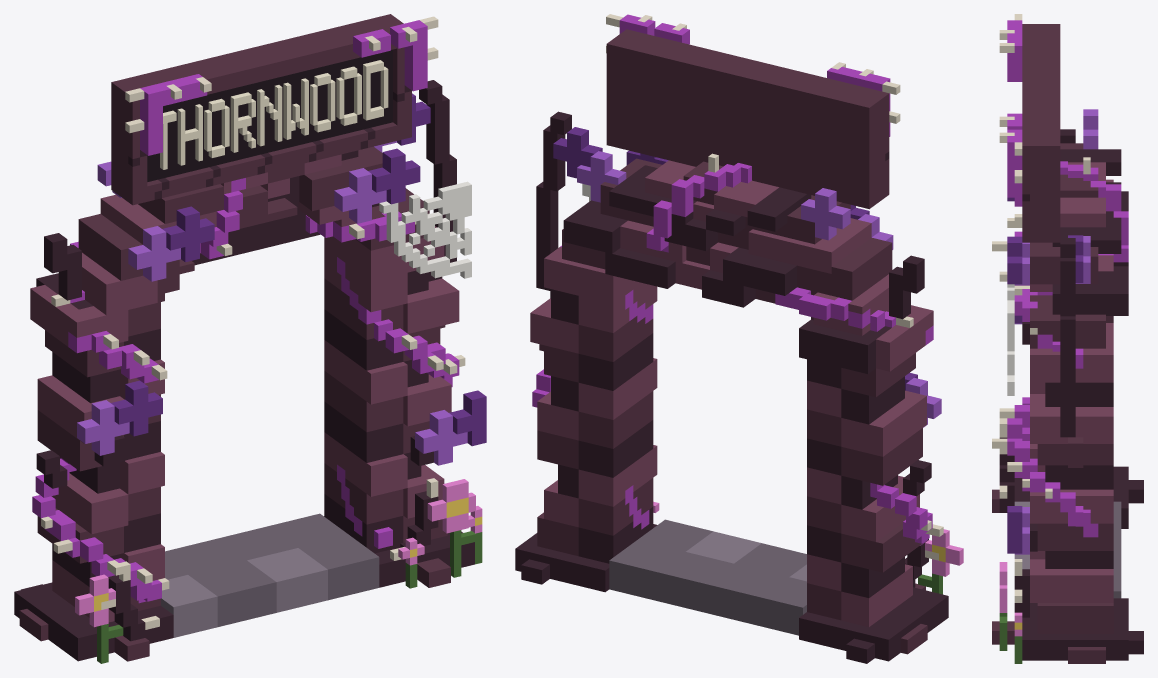
The model's file is Lobby_PortalArch_Thornwood.glb.
3 renders of one model, left to right at view 1: azimuth 30°, elevation 25°; view 2: azimuth 150°, elevation 25°; view 3: azimuth 270°, elevation 25°, orthographic. The views are drawn at different scales.
Visible parts, largest first — view 1: Wood, WoodLight, WoodDark, Vine, Stone, SignBoard, SignText, LeafDark, Leaf, Web, StoneLight, Thorn (+3 smaller); view 2: Wood, WoodDark, WoodLight, Stone, Vine, Leaf, LeafDark, StoneLight, Thorn, Flower; view 3: Wood, WoodDark, WoodLight, Vine, Thorn, LeafDark, Leaf, Web, Stone, Flower, Stem, StoneLight.
Boxes of the visible parts, bbox=[...] form: Wood: bbox=[19, 14, 450, 661]; WoodLight: bbox=[30, 154, 459, 622]; WoodDark: bbox=[14, 80, 474, 661]; Vine: bbox=[32, 20, 459, 603]; Stone: bbox=[165, 513, 379, 626]; SignBoard: bbox=[147, 49, 392, 181]; SignText: bbox=[160, 60, 388, 169]; LeafDark: bbox=[111, 93, 486, 446]; Leaf: bbox=[77, 141, 467, 465]; Web: bbox=[379, 181, 471, 278]; StoneLight: bbox=[161, 548, 327, 637]; Thorn: bbox=[41, 16, 465, 629]; Wood: bbox=[537, 29, 927, 654]; WoodDark: bbox=[515, 111, 948, 663]; WoodLight: bbox=[530, 160, 933, 626]; Stone: bbox=[609, 519, 806, 635]; Vine: bbox=[532, 14, 933, 545]; Leaf: bbox=[577, 151, 941, 427]; LeafDark: bbox=[553, 127, 917, 390]; StoneLight: bbox=[686, 531, 806, 581]; Thorn: bbox=[606, 14, 943, 560]; Flower: bbox=[653, 501, 963, 576]; Wood: bbox=[992, 24, 1113, 663]; WoodDark: bbox=[999, 129, 1143, 660]; WoodLight: bbox=[1030, 162, 1113, 602]; Vine: bbox=[1007, 20, 1128, 537]; Thorn: bbox=[992, 14, 1090, 602]; LeafDark: bbox=[1007, 197, 1083, 553]; Leaf: bbox=[1014, 109, 1098, 554]; Web: bbox=[1007, 284, 1014, 395]; Stone: bbox=[1022, 501, 1121, 598]; Flower: bbox=[999, 562, 1022, 636]; Stem: bbox=[999, 613, 1022, 663]; StoneLight: bbox=[1014, 501, 1029, 568].
Size of the model in its own units: 2.8 by 3.6 by 1.
